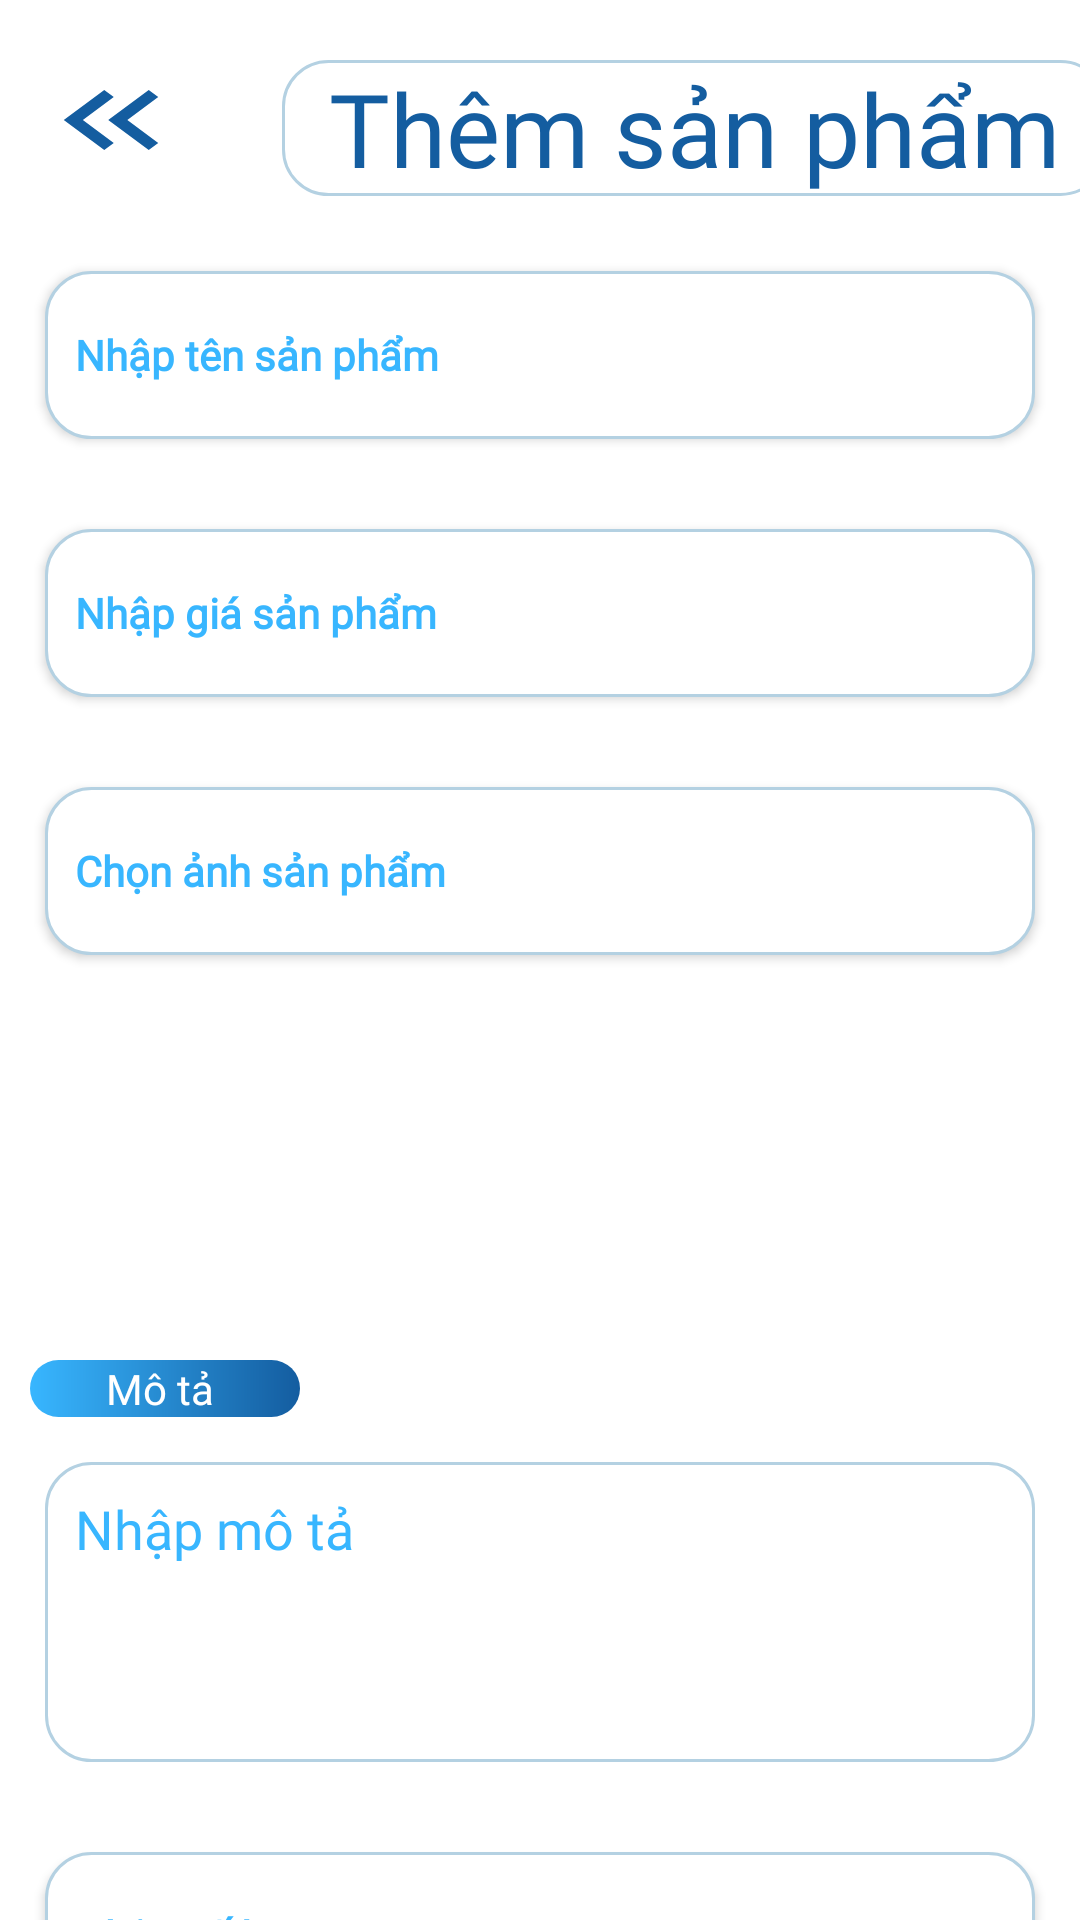

Icon bounding boxes for this 1080 × 1920 phone screenshot, format (x1, y1, x2, y2):
double arrow left: (64, 90, 158, 150)
